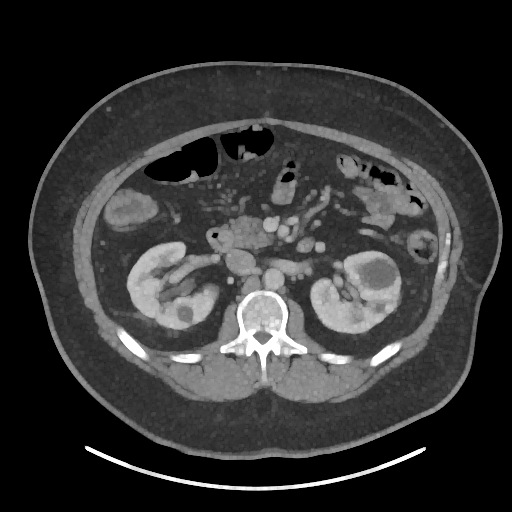Lesion: (353, 255, 398, 292)
